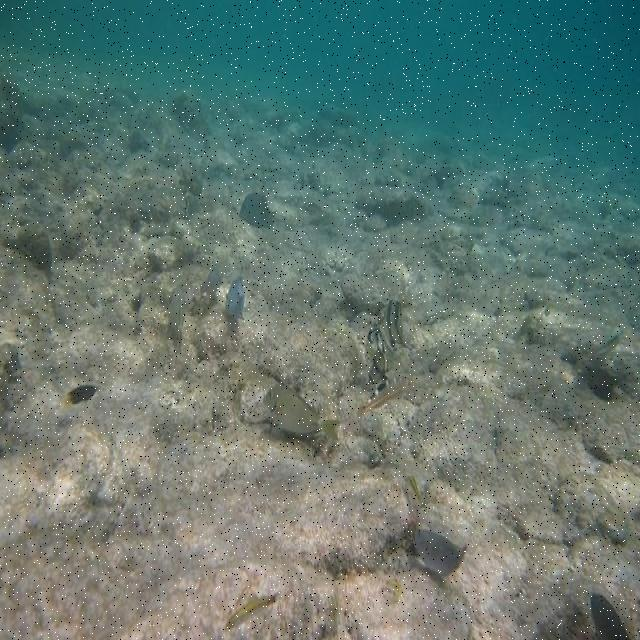fish: (264, 383, 338, 440), (415, 530, 465, 575), (225, 590, 281, 630), (591, 594, 630, 637), (237, 194, 278, 229), (584, 326, 621, 361), (166, 286, 183, 351), (367, 329, 386, 384), (385, 298, 403, 346), (225, 278, 244, 318), (200, 265, 224, 296), (64, 386, 97, 406)
